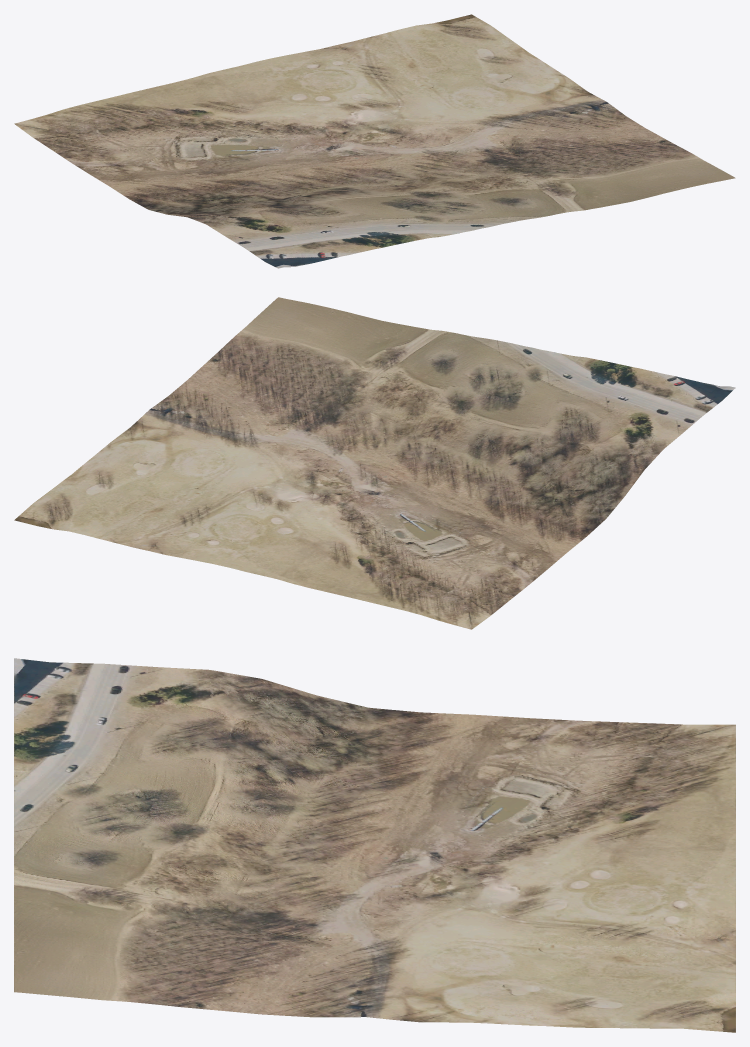
File: CM_Terrain_24491687_6818770.fbx
The picture shows the model from 3 angles, top to bottom: view 1: azimuth 30°, elevation 25°; view 2: azimuth 150°, elevation 25°; view 3: azimuth 270°, elevation 25°; orthographic projection. The views are drawn at different scales.
Parts seen in each view (by area): view 1: CM_Terrain_24491687_6818770_LOD0; view 2: CM_Terrain_24491687_6818770_LOD0; view 3: CM_Terrain_24491687_6818770_LOD0.
Boxes of the visible parts, x1,y1,x2,y2 form: CM_Terrain_24491687_6818770_LOD0: (14, 14, 735, 268); CM_Terrain_24491687_6818770_LOD0: (14, 297, 735, 629); CM_Terrain_24491687_6818770_LOD0: (14, 658, 735, 1032).
Size of what is drawn, in the model's own units: 205 by 21.8 by 205.
